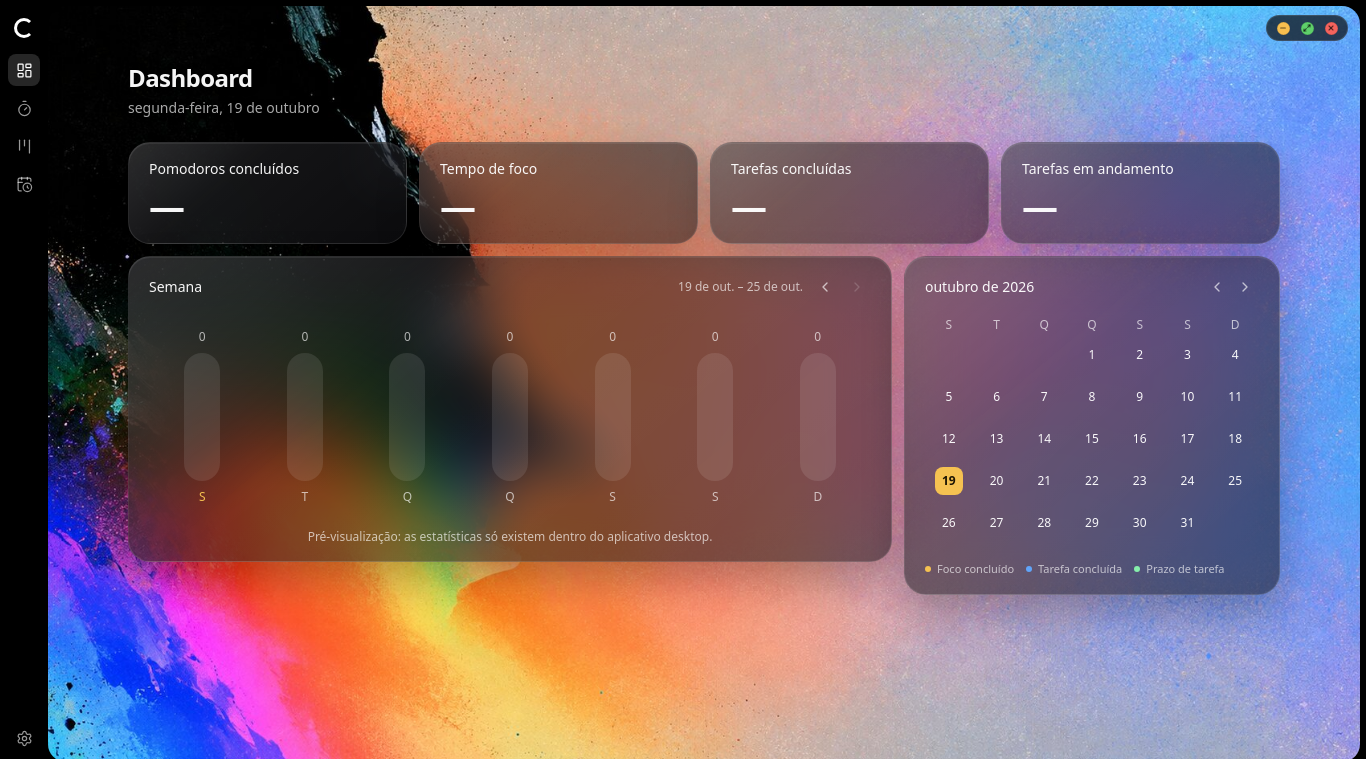
Test case: templates de estilização › desenha os indicadores em matriz de pontos, ainda sem números
Click the button named "Configurações": (24, 738) [8,722,40,754]
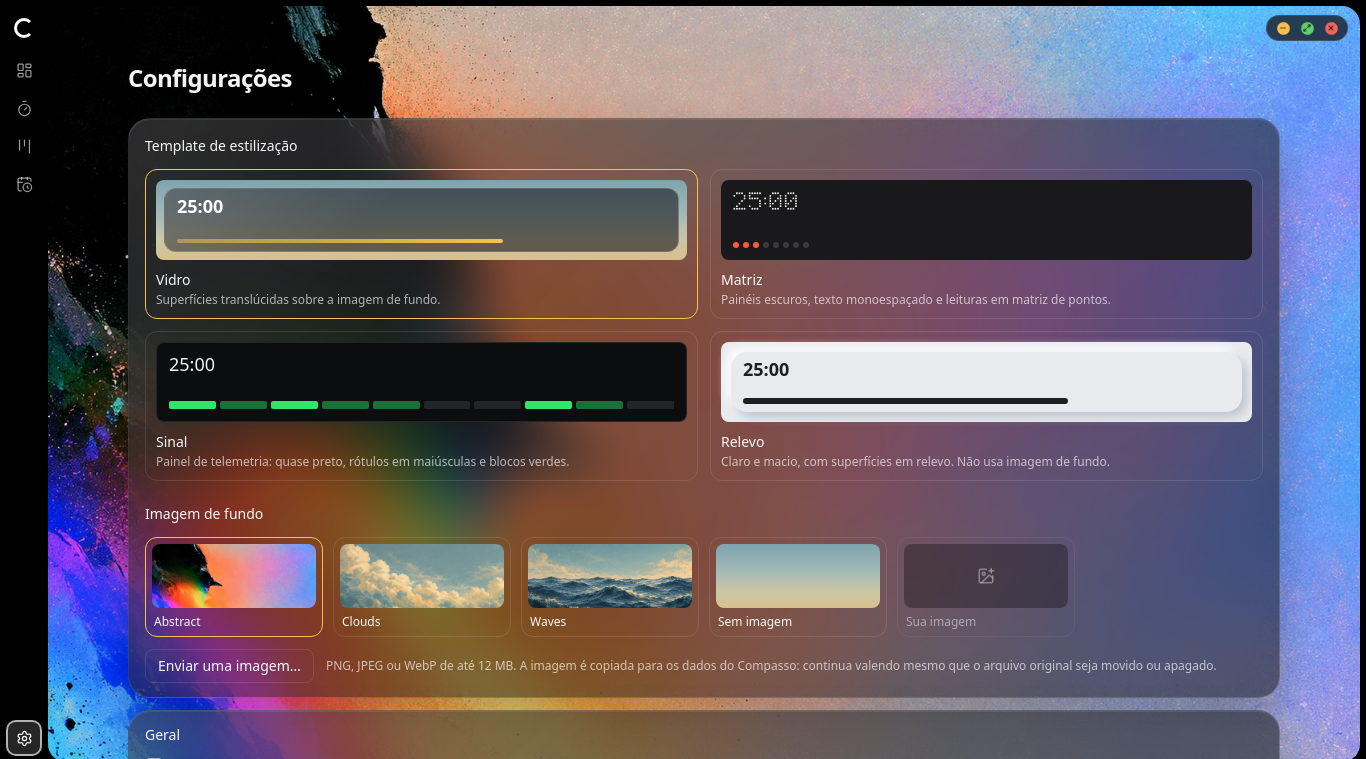
Click the radio button labelled "Matriz": (986, 244) [710,169,1263,319]
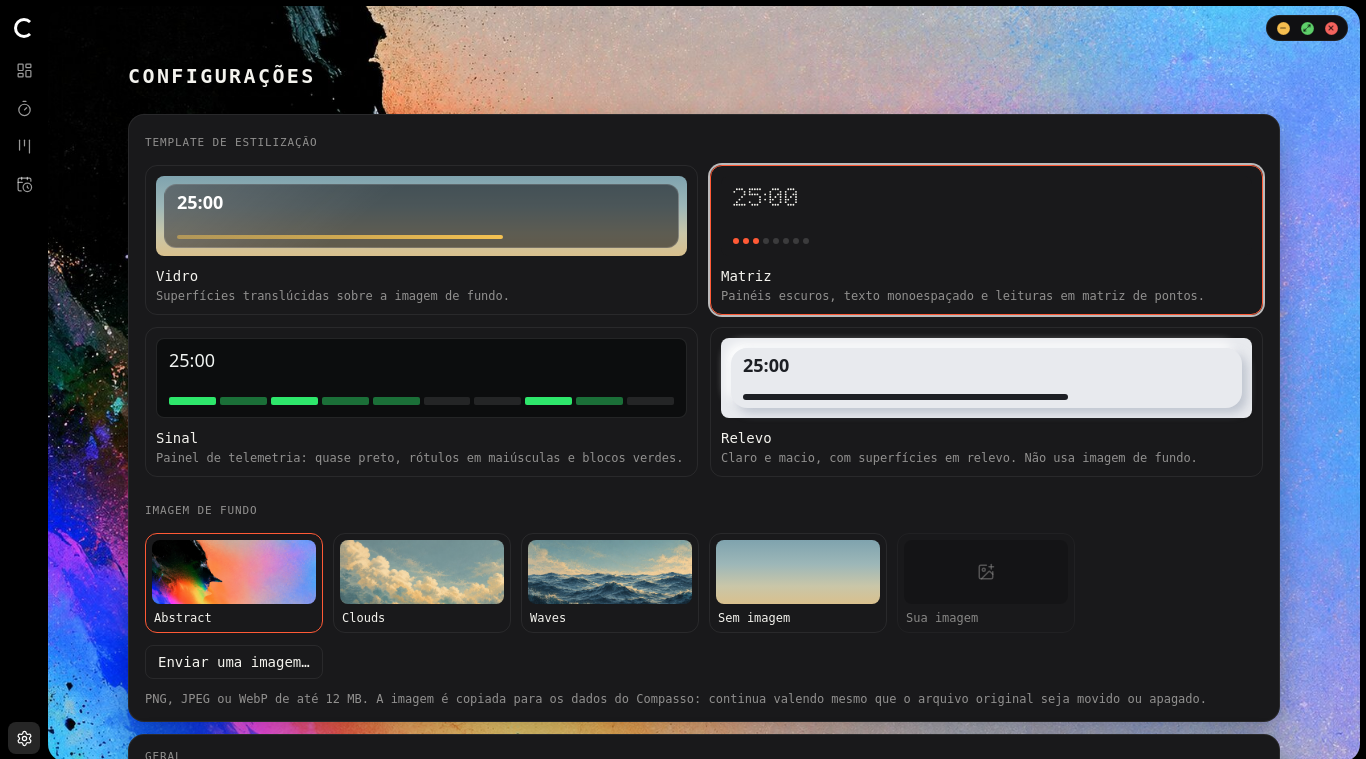
Click the button named "Dashboard": (24, 70) [8,54,40,86]
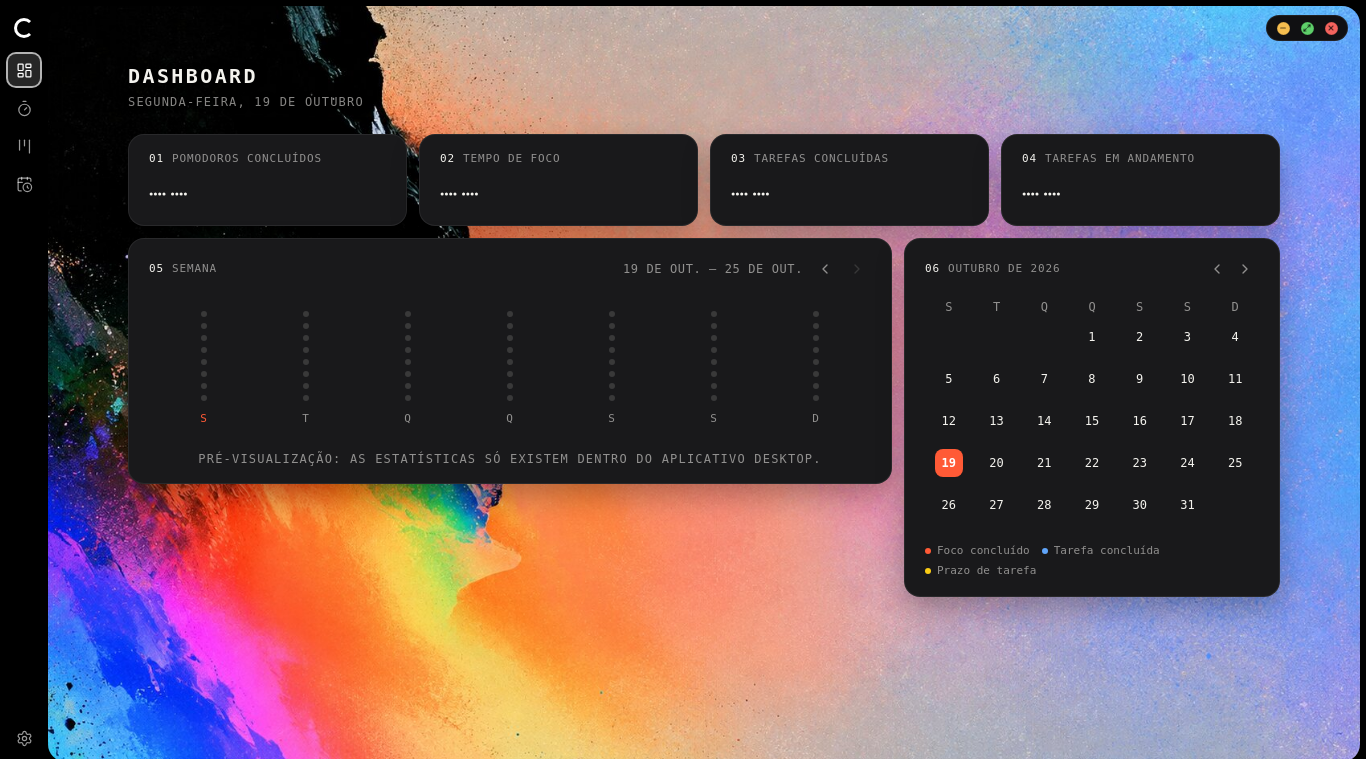
Check: the picture named "Sem dados" below "Tempo de foco" is shown, box [440,179,479,209]
Check: the picture named "Nenhum pomodoro concluído nesta semana" is shown, box [157,311,863,427]
